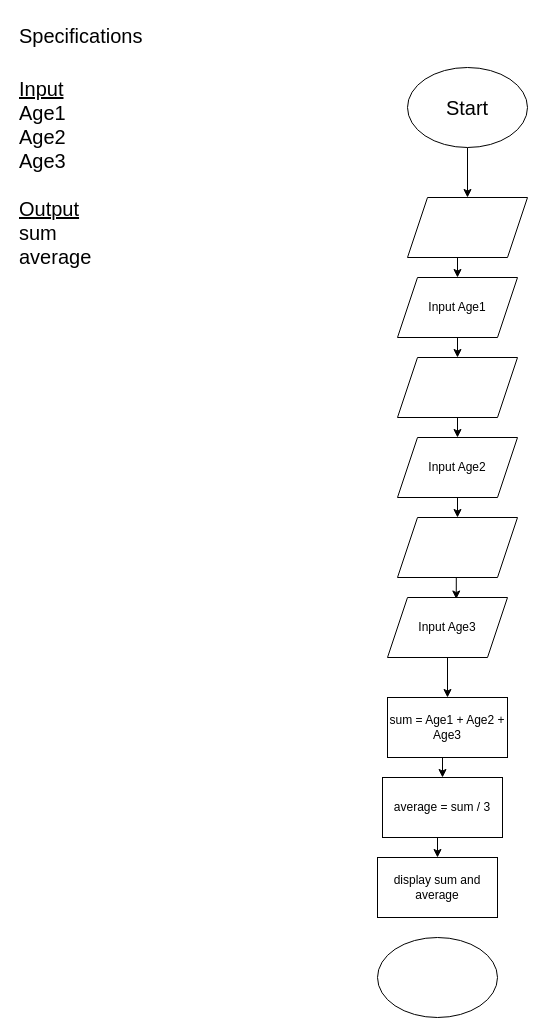
Some shapes in this 545 by 1035 pixel diagram are drawn without their labels. Here are the shapes that lost their labels. From the top down, the centre of each, then its label:
point 467,227: Enter Age1
point 457,387: Enter Age2
point 457,547: Enter Age3
point 437,977: END
